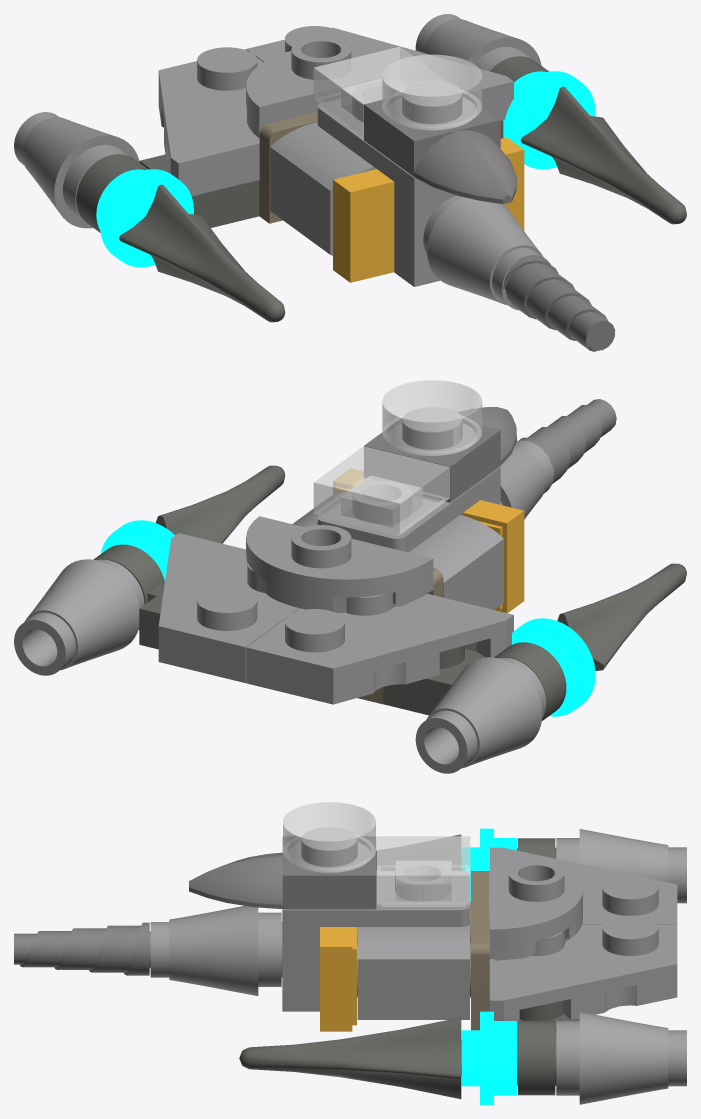
The model's file is nano-n1.glb.
3 views of the same model, one above another, from view 1: azimuth 30°, elevation 25°; view 2: azimuth 150°, elevation 25°; view 3: azimuth 270°, elevation 25° (orthographic). The views are drawn at different scales.
Parts seen in each view (by area): view 1: nano-n1; view 2: nano-n1; view 3: nano-n1.
Part boxes in pixels (x1=…): nano-n1: x1=14, y1=14, x2=686, y2=351; nano-n1: x1=14, y1=380, x2=686, y2=773; nano-n1: x1=14, y1=802, x2=686, y2=1104.
Size of the model in its own units: 1.12 by 0.439 by 1.43.
